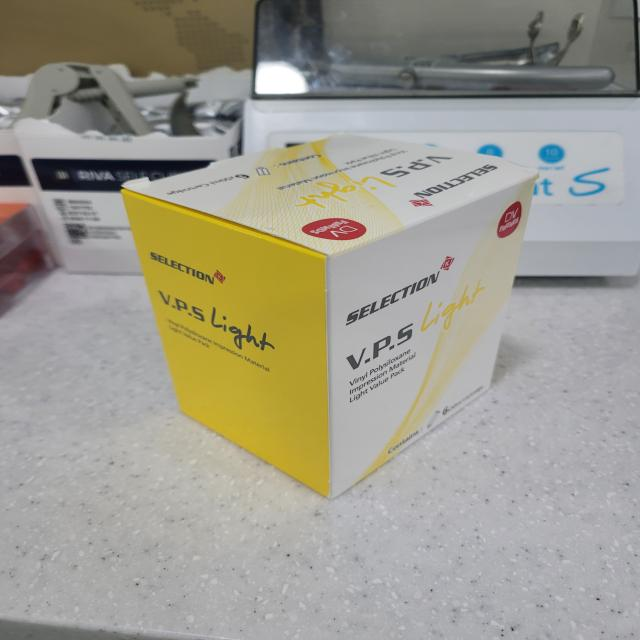impression: (100, 116, 548, 510)
